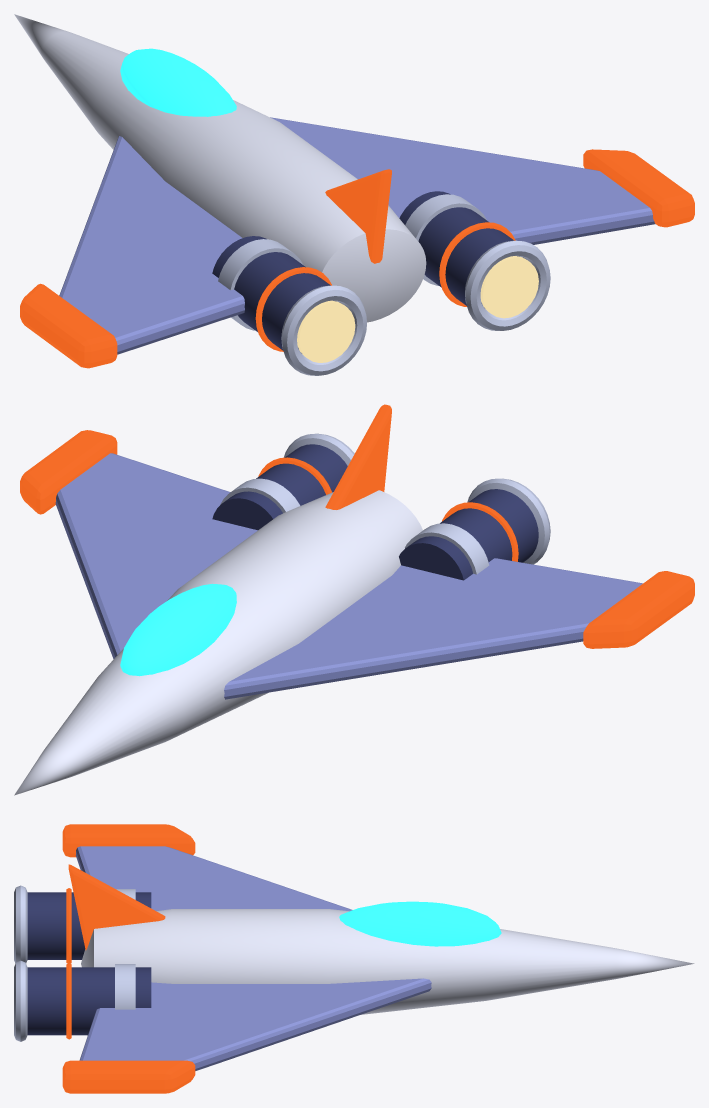
File: kestrel.glb
3 views of the same model, one above another, from view 1: azimuth 30°, elevation 25°; view 2: azimuth 150°, elevation 25°; view 3: azimuth 270°, elevation 25° (orthographic). The views are drawn at different scales.
Visible parts, largest first — view 1: fus, wing.001, wing, Sphere, Cylinder, Cylinder.003, tip.001, tip, Torus.009, Torus.007, fin, Cylinder.005 (+5 smaller); view 2: fus, wing.001, wing, Sphere, Cylinder, tip.001, Cylinder.003, tip, fin, Torus.007, Cylinder.001, Cylinder.004 (+2 smaller); view 3: fus, wing, wing.001, Cylinder.003, Sphere, tip, Cylinder, fin, tip.001, Torus.009, Torus.007, Cylinder.004 (+2 smaller).
Boxes of the visible parts, x1,y1,x2,y2 form: fus: [14, 14, 426, 322]; wing.001: [59, 136, 244, 354]; wing: [270, 117, 655, 244]; Sphere: [120, 48, 236, 116]; Cylinder: [212, 236, 339, 353]; Cylinder.003: [399, 191, 523, 307]; tip.001: [20, 283, 117, 368]; tip: [583, 149, 694, 227]; Torus.009: [465, 240, 550, 330]; Torus.007: [281, 285, 366, 375]; fin: [325, 169, 391, 263]; Cylinder.005: [480, 256, 538, 318]; fus: [14, 490, 422, 795]; wing.001: [224, 558, 642, 699]; wing: [55, 453, 257, 659]; Sphere: [120, 583, 236, 676]; Cylinder: [399, 489, 538, 580]; tip.001: [583, 571, 694, 648]; Cylinder.003: [212, 444, 347, 530]; tip: [20, 430, 117, 514]; fin: [325, 404, 391, 509]; Torus.007: [467, 478, 550, 564]; Cylinder.001: [405, 523, 489, 574]; Cylinder.004: [220, 478, 300, 513]; fus: [81, 909, 694, 1014]; wing: [79, 978, 431, 1070]; wing.001: [75, 846, 352, 911]; Cylinder.003: [27, 967, 151, 1035]; Sphere: [339, 901, 501, 946]; tip: [62, 1060, 195, 1093]; Cylinder: [27, 892, 151, 959]; fin: [68, 864, 165, 950]; tip.001: [62, 824, 195, 857]; Torus.009: [14, 960, 27, 1041]; Torus.007: [14, 885, 27, 963]; Cylinder.004: [115, 964, 135, 1009].
Size of the model in its own units: 2.28 by 0.615 by 2.61.
